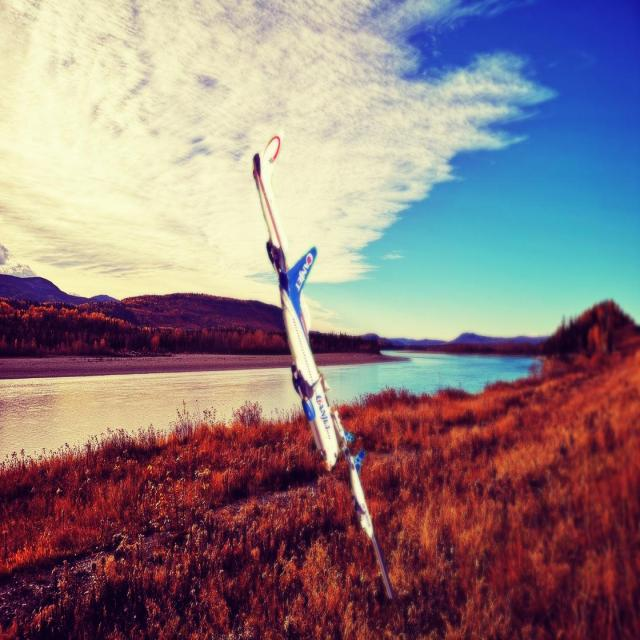airplane: (249, 134, 395, 600)
